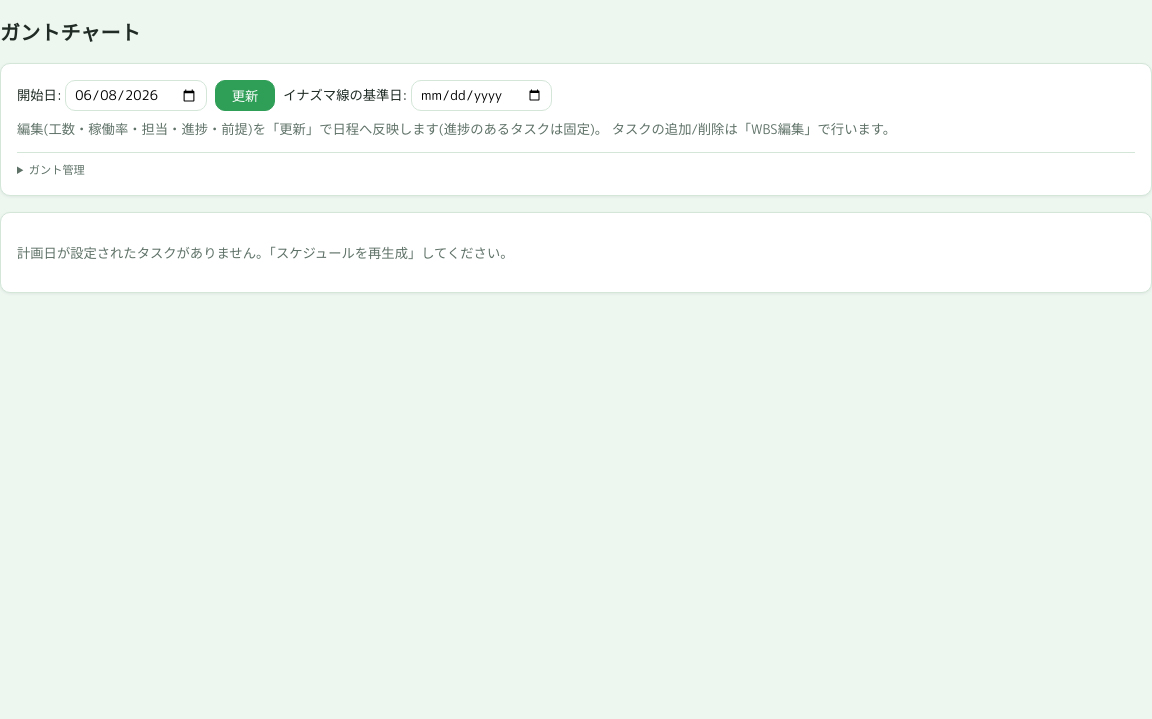
Test case: GanttPage › スケジュールを再生成するとバーが描画される
Expected: the text "計画日が設定されたタスクがありません。「スケジュールを再生成」してください。" is shown, [17,244,514,262]
Click the button "更新".
click(245, 96)  # box [215,80,275,111]
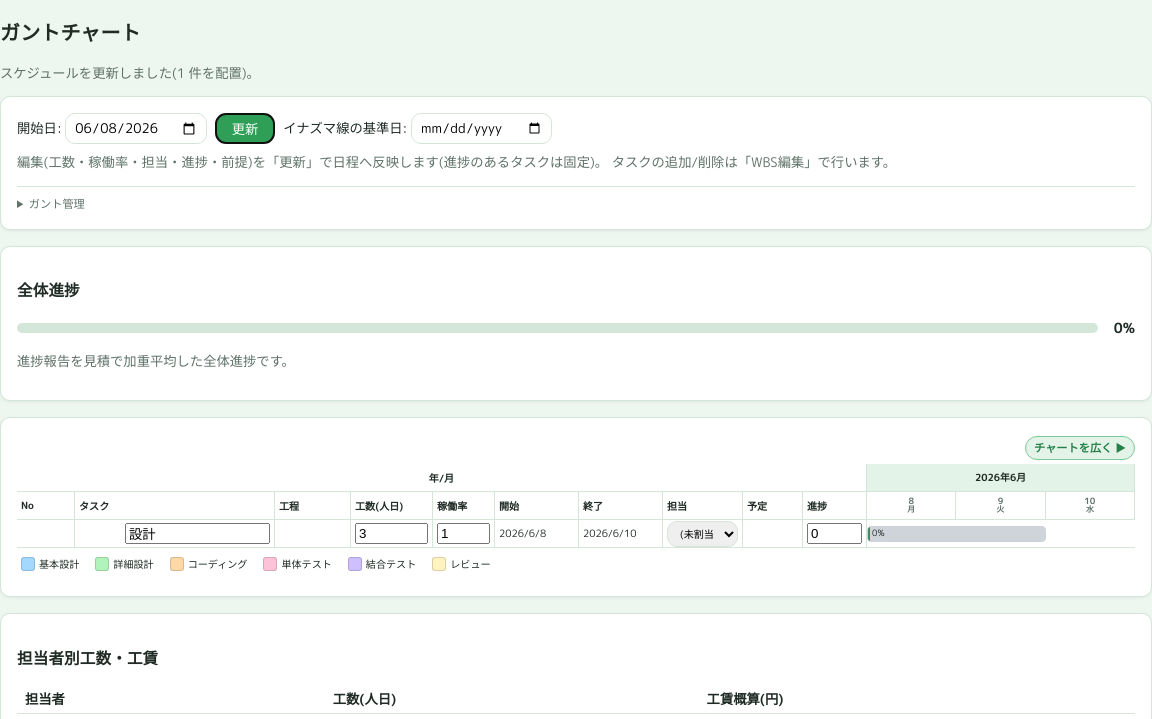
Expected: the table named "ガントチャート" is shown, [17,464,1135,548]
Expected: the field showing "設計" is shown, [125,523,270,544]
